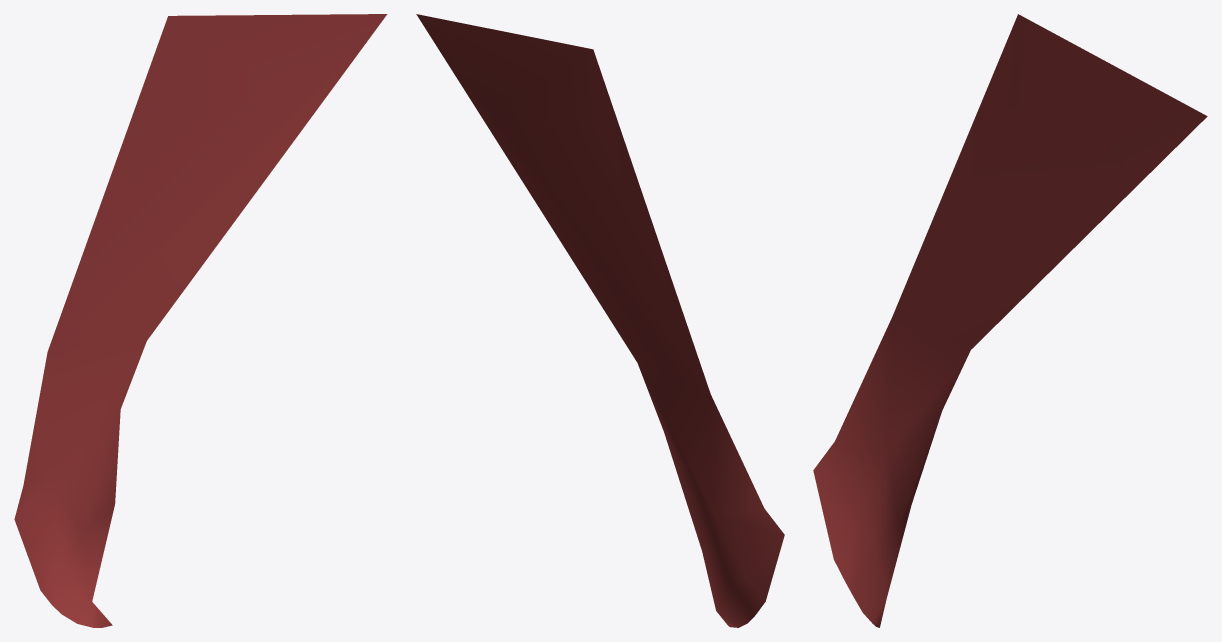
Rendered from lateral-pterygoid-muscle-o1r.glb.
The picture shows the model from 3 angles, left to right: view 1: azimuth 30°, elevation 25°; view 2: azimuth 150°, elevation 25°; view 3: azimuth 330°, elevation 25°; orthographic projection. The views are drawn at different scales.
Visible parts, largest first — view 1: Lateral pterygoid muscle.o1r; view 2: Lateral pterygoid muscle.o1r; view 3: Lateral pterygoid muscle.o1r.
Boxes of the visible parts, x1,y1,x2,y2 form: Lateral pterygoid muscle.o1r: (14,14,387,627); Lateral pterygoid muscle.o1r: (416,14,784,627); Lateral pterygoid muscle.o1r: (813,14,1207,627).
Bounding box in the file's own units: 0.00603 × 0.00884 × 0.00109.
